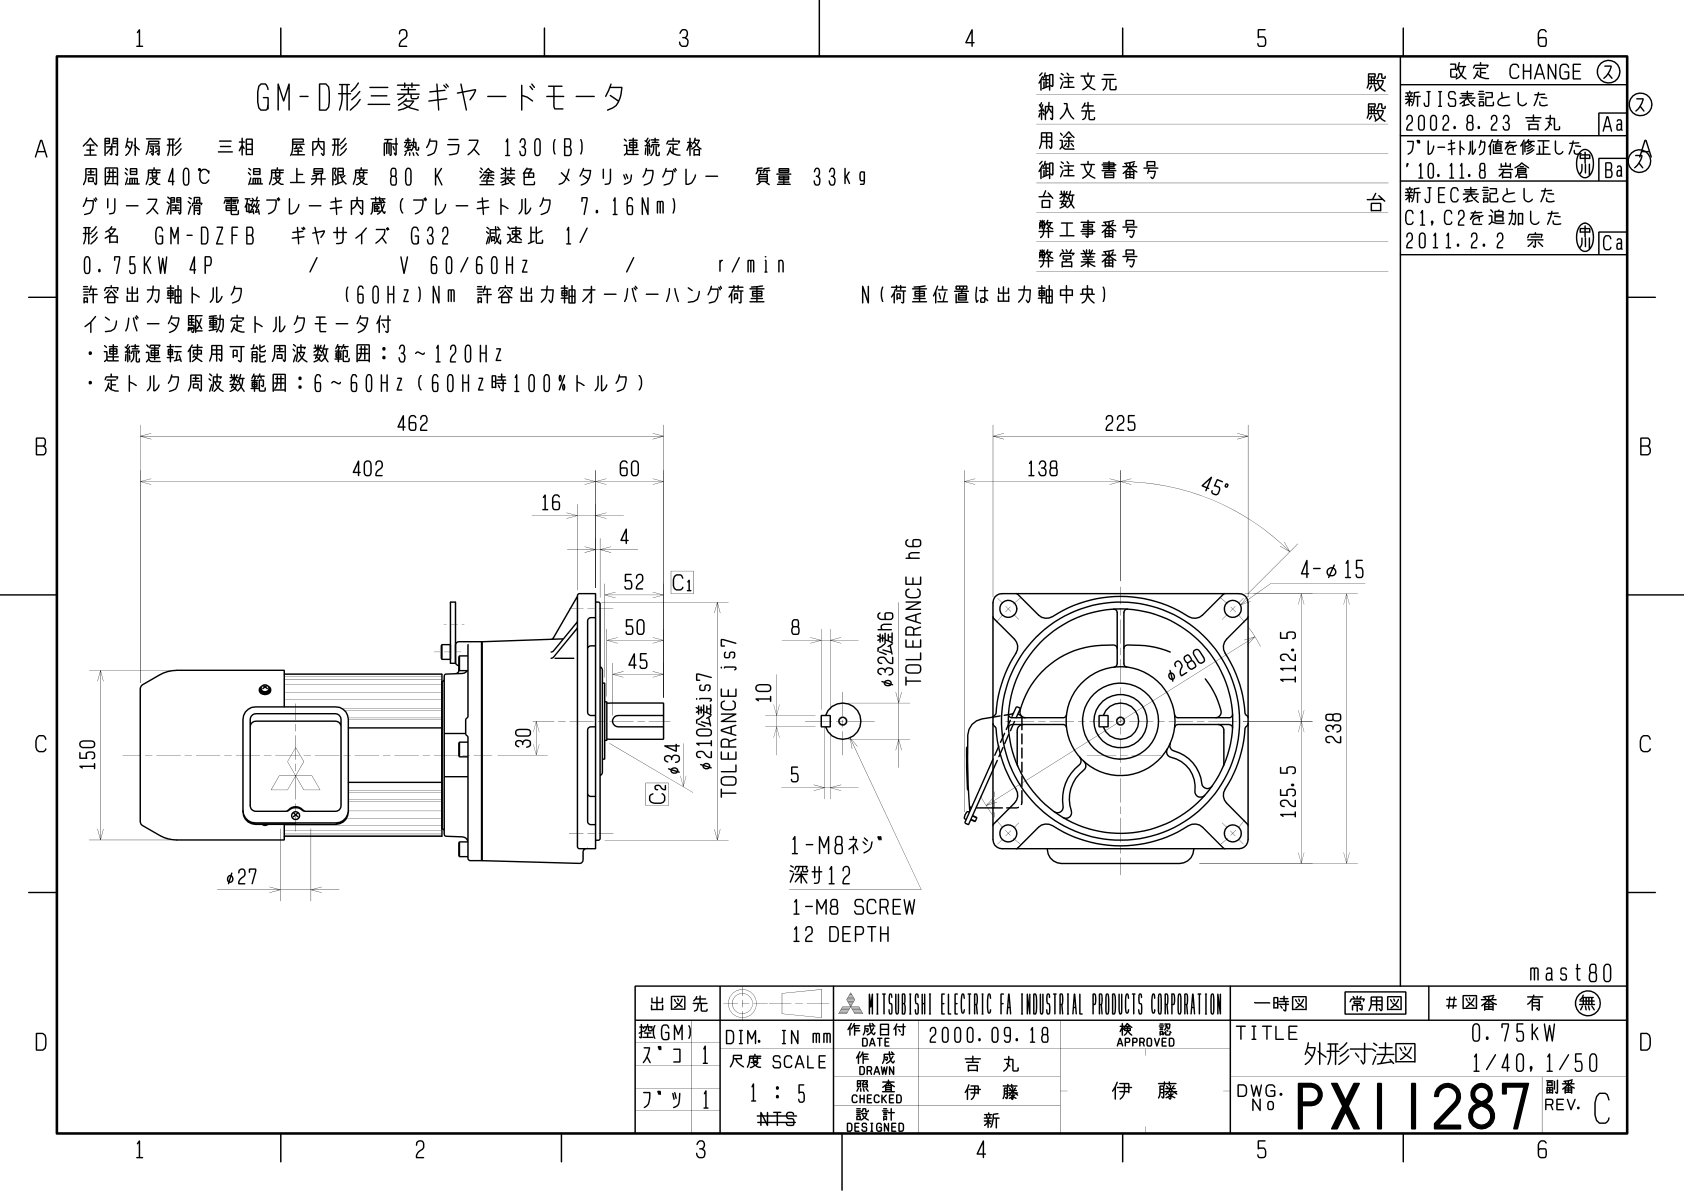GM_D_インバータ屋内_三相_フランジ: (70, 403, 1379, 965)
